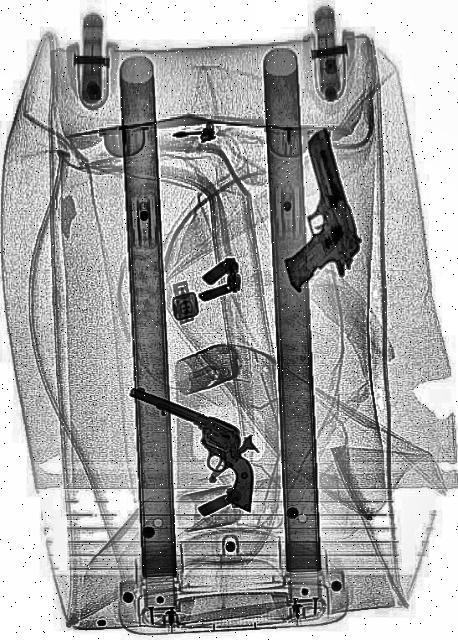Gun: (113, 381, 269, 511), (254, 123, 368, 299)
